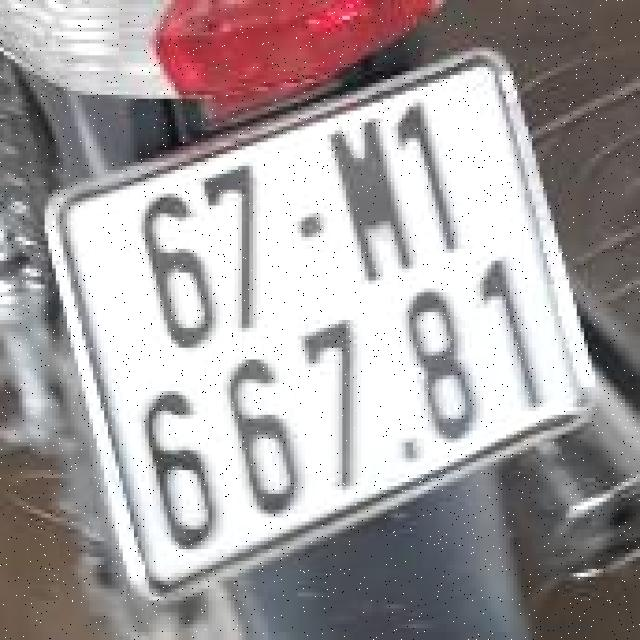1: (380, 83, 493, 267), (461, 235, 564, 423)
6: (208, 342, 317, 527), (125, 374, 231, 562), (123, 182, 232, 363)
7: (187, 150, 294, 344), (286, 312, 390, 499)
8: (385, 267, 500, 459)
M: (309, 100, 433, 307)
